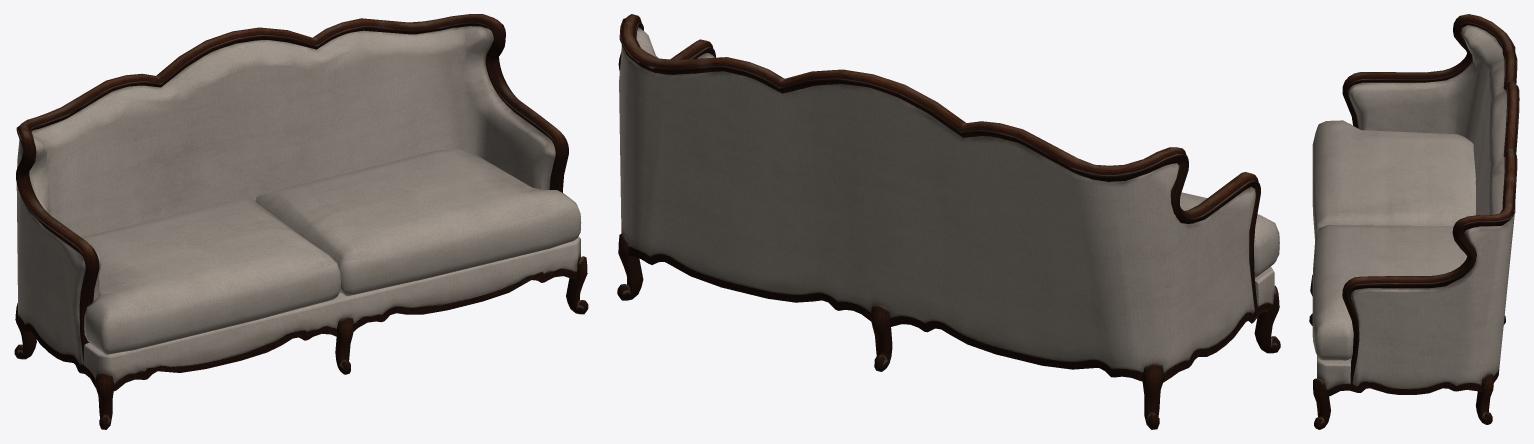
File: Sofa_01.glb
3 renders of one model, left to right at view 1: azimuth 30°, elevation 25°; view 2: azimuth 150°, elevation 25°; view 3: azimuth 270°, elevation 25°, orthographic. The views are drawn at different scales.
Visible parts, largest first — view 1: Sofa_01; view 2: Sofa_01; view 3: Sofa_01.
Boxes of the visible parts, left/top/right/bottom form: Sofa_01: left=14, top=14, right=588, bottom=429; Sofa_01: left=617, top=14, right=1280, bottom=429; Sofa_01: left=1309, top=14, right=1519, bottom=429.
Bounding box in the file's own units: 1.57 × 0.7966 × 0.658.
1 material, 1 textured.
